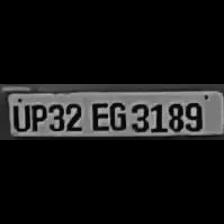1: (146, 100, 166, 132)
2: (62, 100, 84, 132)
3: (128, 100, 148, 132), (46, 100, 64, 132)
8: (165, 99, 183, 131)
9: (182, 99, 204, 131)
E: (86, 99, 108, 131)
G: (108, 100, 126, 130)
P: (28, 101, 46, 131)
U: (10, 101, 28, 131)
